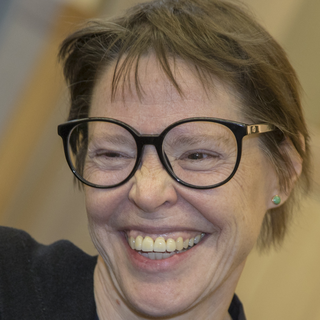eye: (169, 142, 232, 172), (87, 140, 138, 169)
